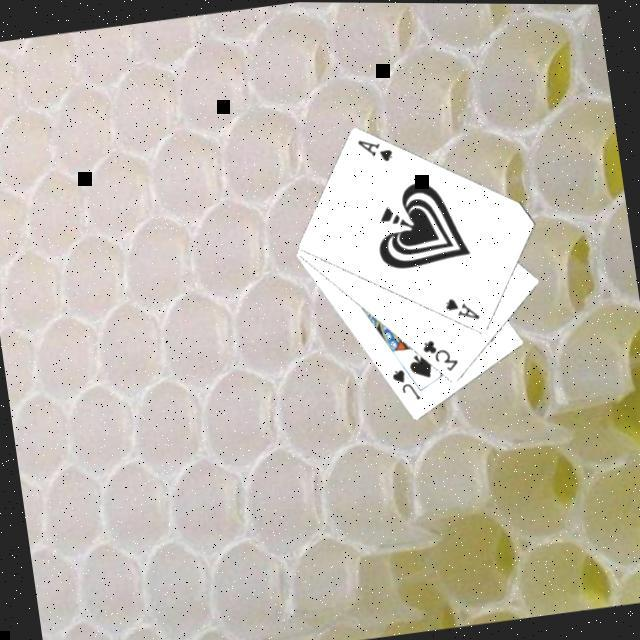3C: (416, 332, 460, 377)
AS: (438, 290, 482, 326), (352, 132, 395, 168)
JS: (386, 363, 422, 405)
